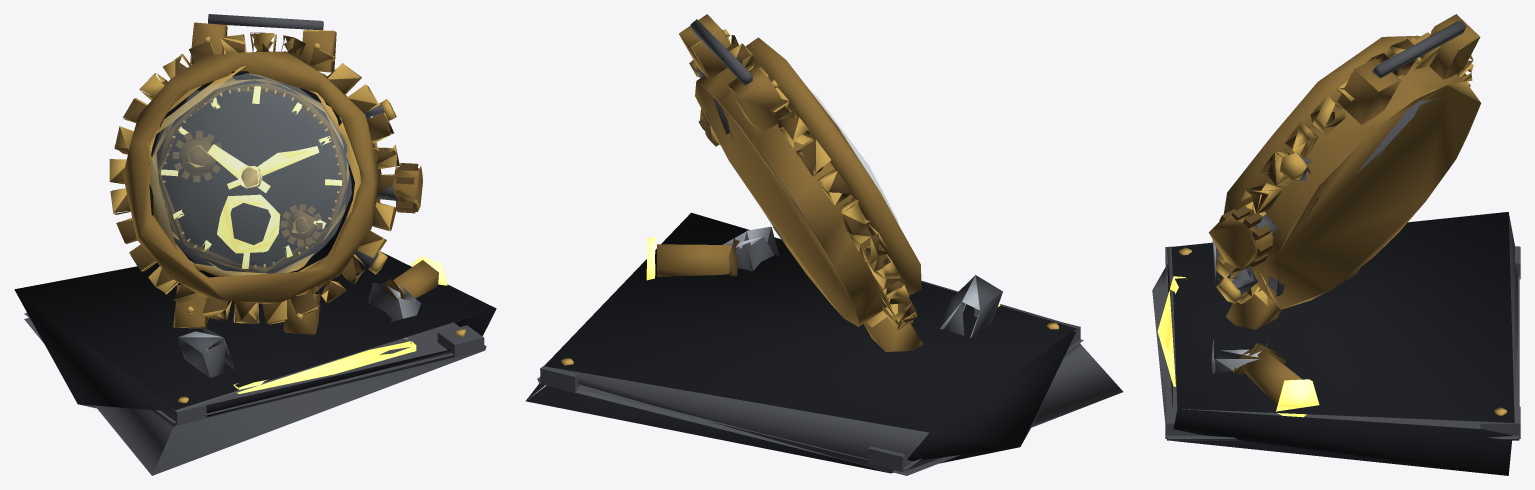
Rendered from chrono.glb.
3 renders of one model, left to right at view 1: azimuth 30°, elevation 25°; view 2: azimuth 150°, elevation 25°; view 3: azimuth 270°, elevation 25°, orthographic. The views are drawn at different scales.
Parts seen in each view (by area): view 1: peana, cristal, dial, bisel, peana_banda, bisel_interior, dial_aro, cristal_junta, peana_luz, tope_1, subesfera, tope_3 (+19 smaller); view 2: peana, caja, bisel, peana_banda, celda, asa_2_1, tope_1, asa_2_3, tope_3, asa_1_1, barra_2, diente_15 (+7 smaller); view 3: peana, caja, bisel, peana_banda, asa_2_3, corona, asa_2_1, celda, asa_1_3, barra_2, celda_luz, tope_3 (+13 smaller).
Boxes of the visible parts, x1=… form: peana: x1=14, y1=251, x2=496, y2=417; cristal: x1=151, y1=73, x2=351, y2=275; dial: x1=157, y1=80, x2=345, y2=273; bisel: x1=123, y1=51, x2=380, y2=303; peana_banda: x1=24, y1=313, x2=486, y2=475; bisel_interior: x1=147, y1=66, x2=360, y2=276; dial_aro: x1=158, y1=83, x2=345, y2=273; cristal_junta: x1=149, y1=71, x2=354, y2=277; peana_luz: x1=233, y1=341, x2=416, y2=393; tope_1: x1=178, y1=326, x2=233, y2=377; subesfera: x1=217, y1=194, x2=279, y2=253; tope_3: x1=368, y1=282, x2=420, y2=339; peana: x1=525, y1=212, x2=1078, y2=473; caja: x1=695, y1=62, x2=889, y2=326; bisel: x1=745, y1=37, x2=921, y2=295; peana_banda: x1=537, y1=339, x2=1123, y2=475; celda: x1=657, y1=244, x2=730, y2=276; asa_2_1: x1=727, y1=66, x2=790, y2=132; tope_1: x1=938, y1=275, x2=1002, y2=337; asa_2_3: x1=679, y1=14, x2=730, y2=78; tope_3: x1=722, y1=226, x2=779, y2=271; asa_1_1: x1=863, y1=311, x2=922, y2=351; barra_2: x1=690, y1=19, x2=752, y2=85; diente_15: x1=849, y1=223, x2=888, y2=264; peana: x1=1167, y1=212, x2=1517, y2=475; caja: x1=1250, y1=57, x2=1481, y2=309; bisel: x1=1223, y1=35, x2=1420, y2=270; peana_banda: x1=1152, y1=263, x2=1519, y2=440; asa_2_3: x1=1337, y1=58, x2=1401, y2=124; corona: x1=1209, y1=208, x2=1273, y2=269; asa_2_1: x1=1420, y1=14, x2=1480, y2=79; celda: x1=1242, y1=349, x2=1301, y2=404; asa_1_3: x1=1226, y1=273, x2=1280, y2=329; barra_2: x1=1372, y1=20, x2=1466, y2=78; celda_luz: x1=1276, y1=379, x2=1319, y2=417; tope_3: x1=1211, y1=337, x2=1267, y2=373.
Size of the model in its own units: 1.08 by 0.9335 by 0.8245.
